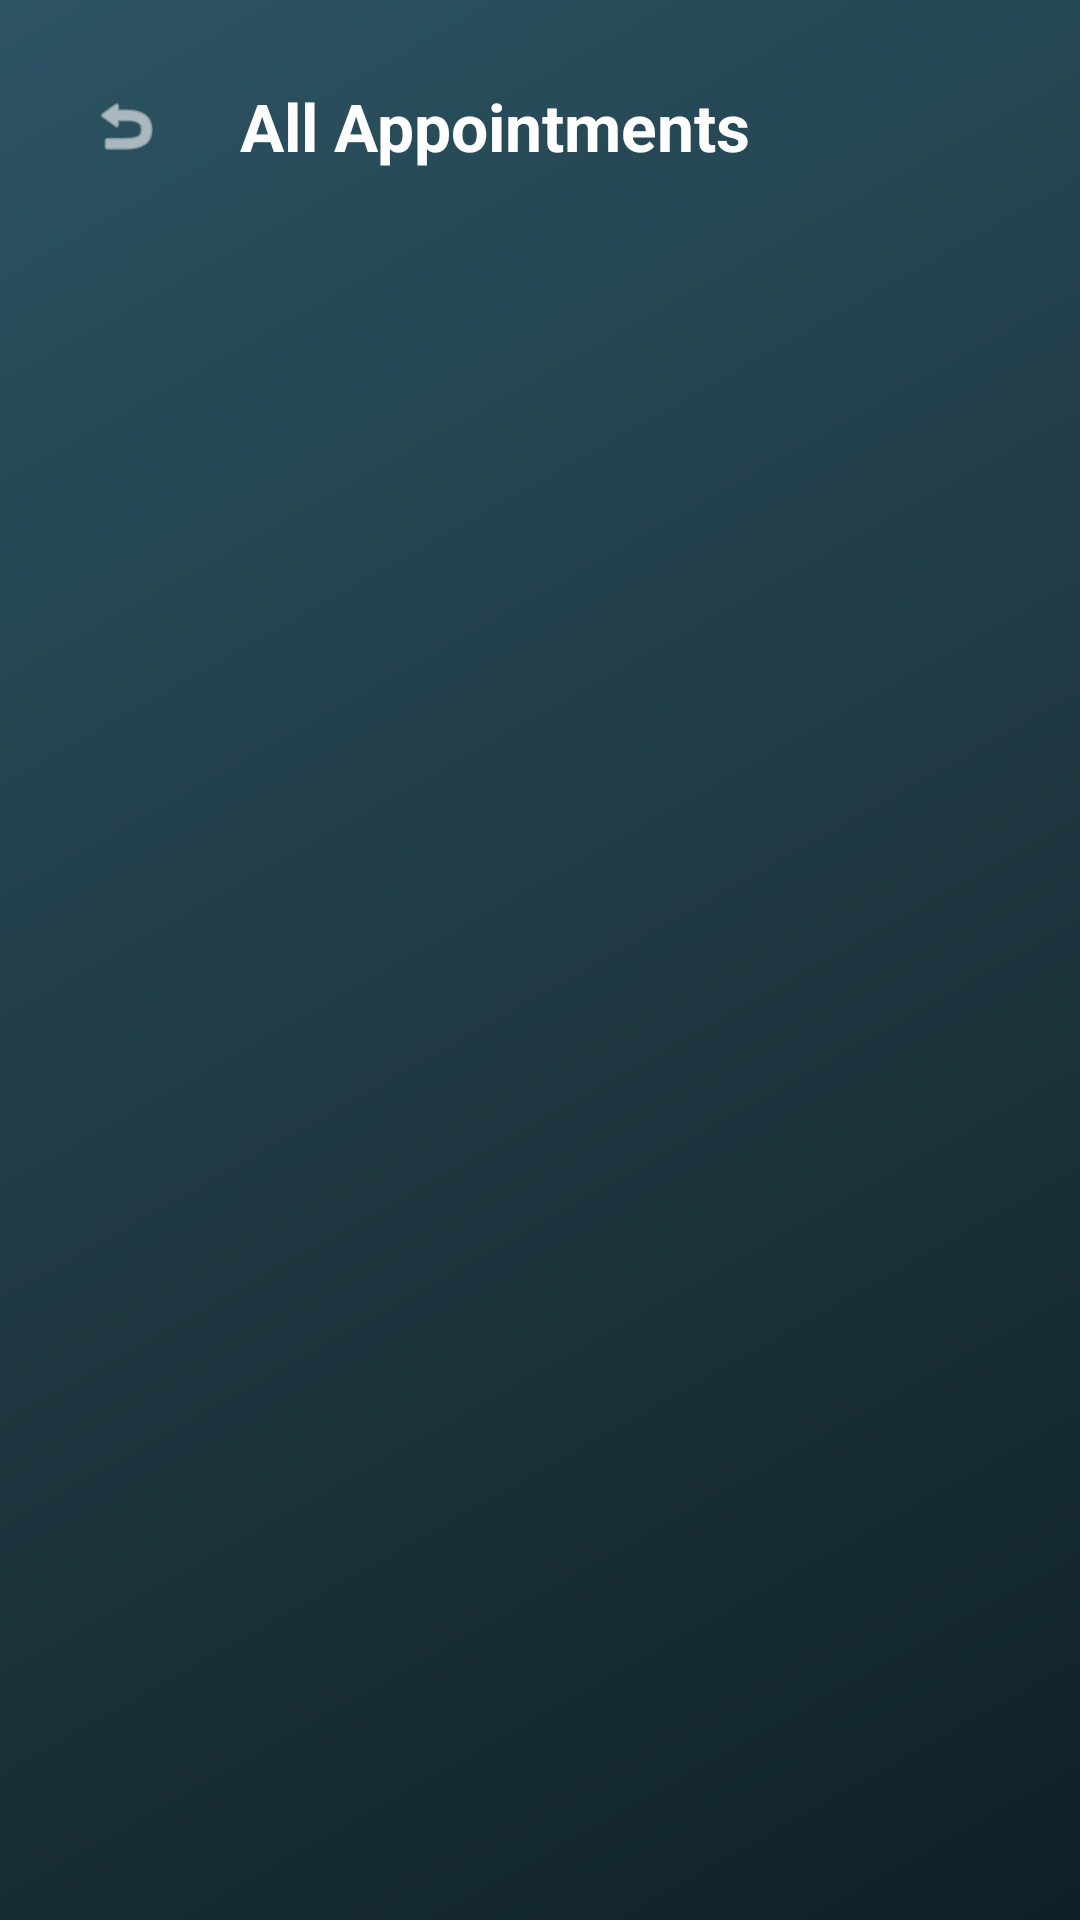

Screen size 1080px x 1920px. Icon name, then its box in pixels as (x1, y1, x2, y2):
revert: (101, 103, 153, 150)
